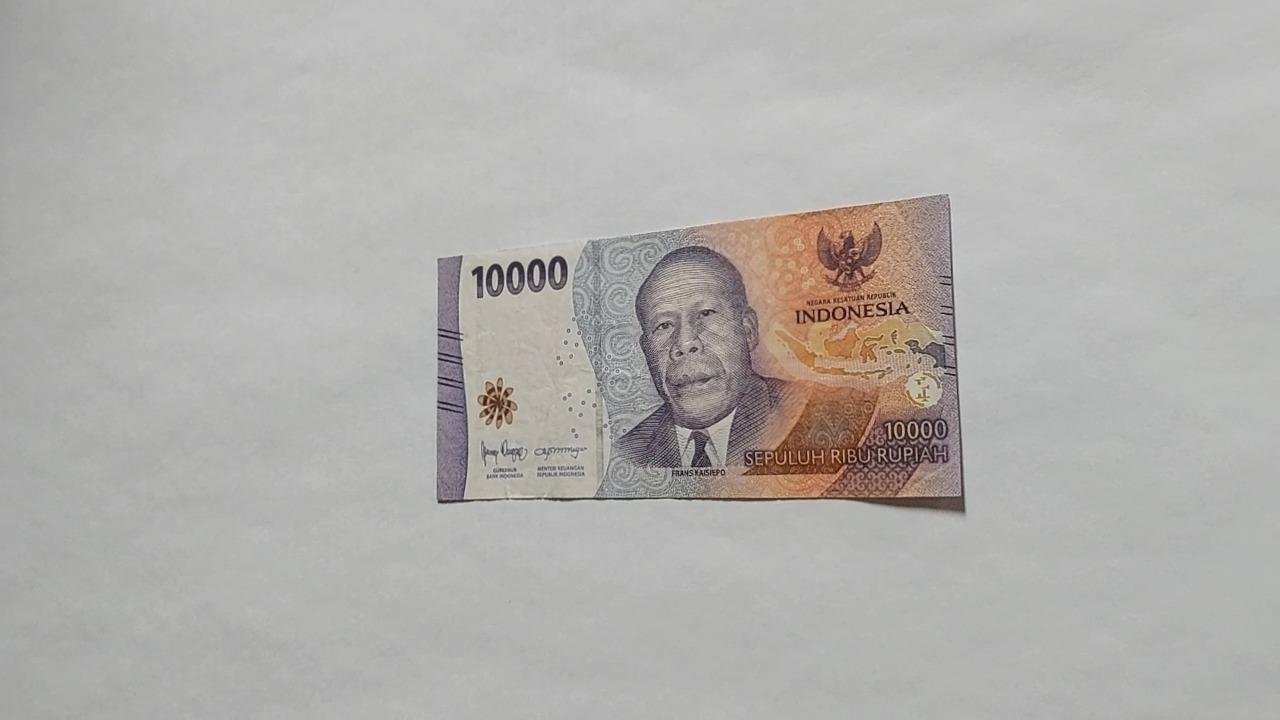Kertas: (435, 192, 965, 509)
